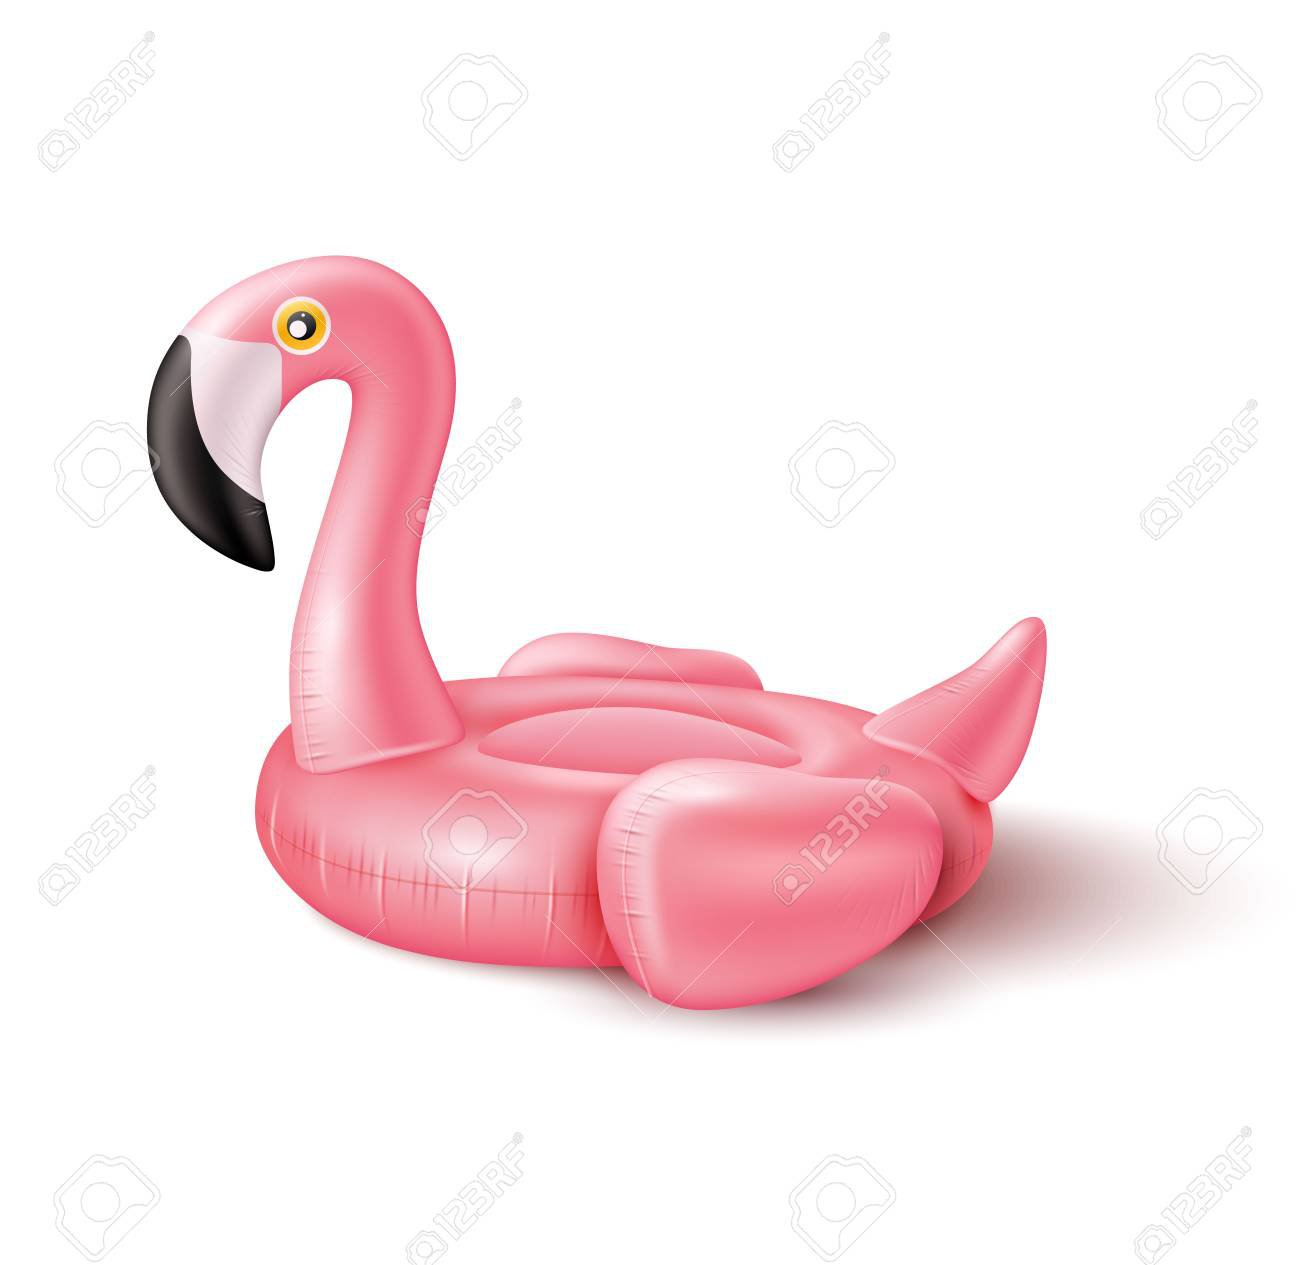Flamingo: (136, 253, 1056, 1019)
